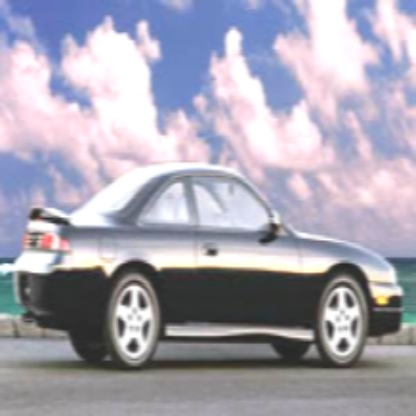Vehicle: (17, 150, 410, 391)
